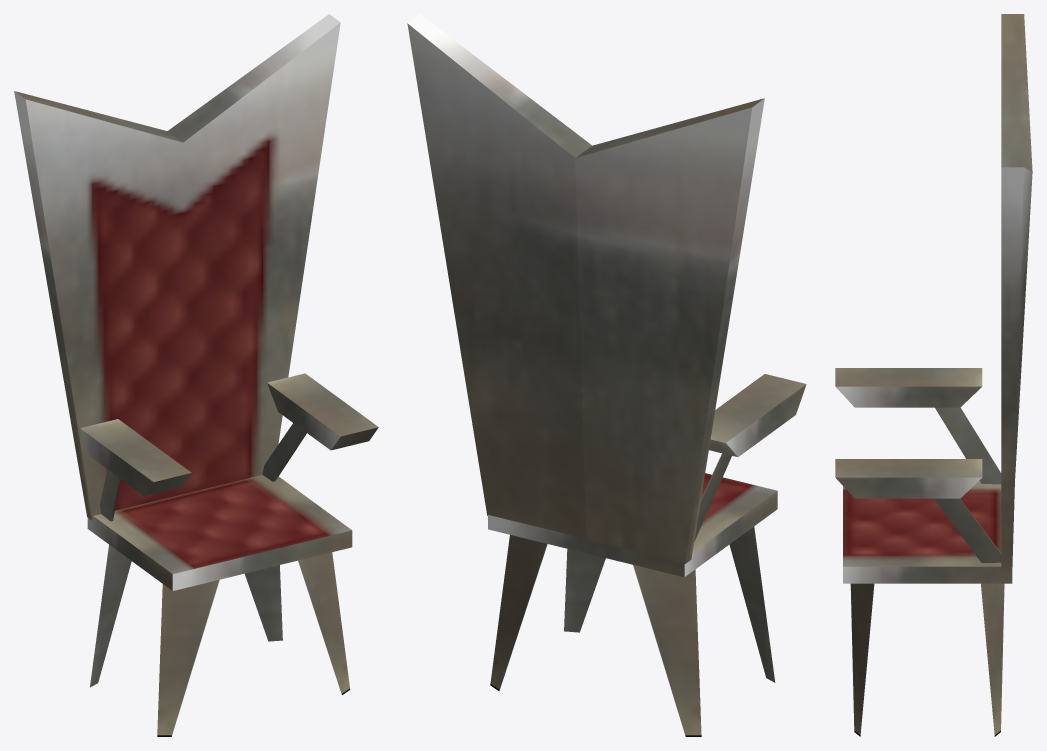
Rendered from trono.glb.
The picture shows the model from 3 angles, left to right: view 1: azimuth 30°, elevation 25°; view 2: azimuth 150°, elevation 25°; view 3: azimuth 270°, elevation 25°; orthographic projection. The views are drawn at different scales.
Parts seen in each view (by area): view 1: Object_2; view 2: Object_2; view 3: Object_2.
Part boxes in pixels (x1,y1,x2,y2): Object_2: (14,14,378,736); Object_2: (407,14,806,736); Object_2: (835,14,1032,736).
Bounding box in the file's own units: 77.02 × 140 × 41.84.
1 material, 1 textured.
